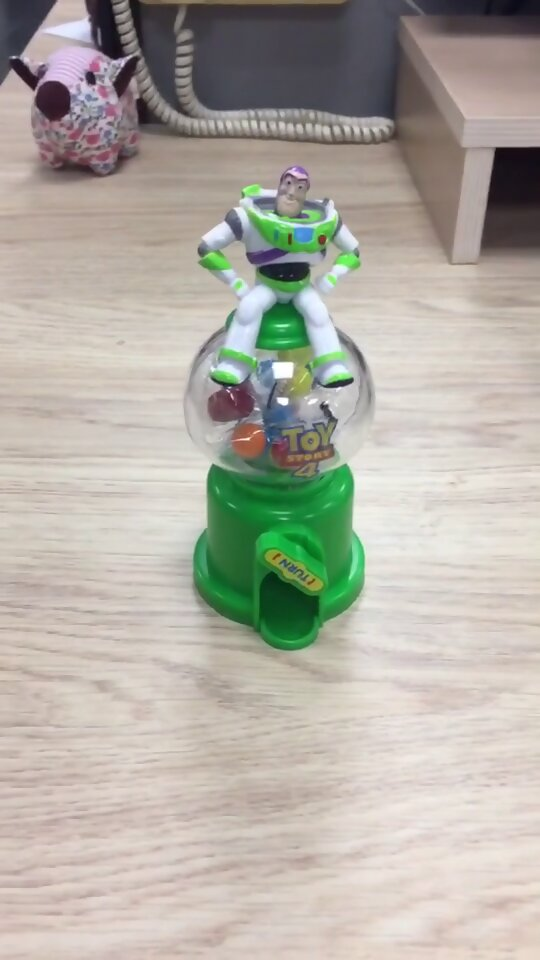buzz: (177, 159, 382, 656)
